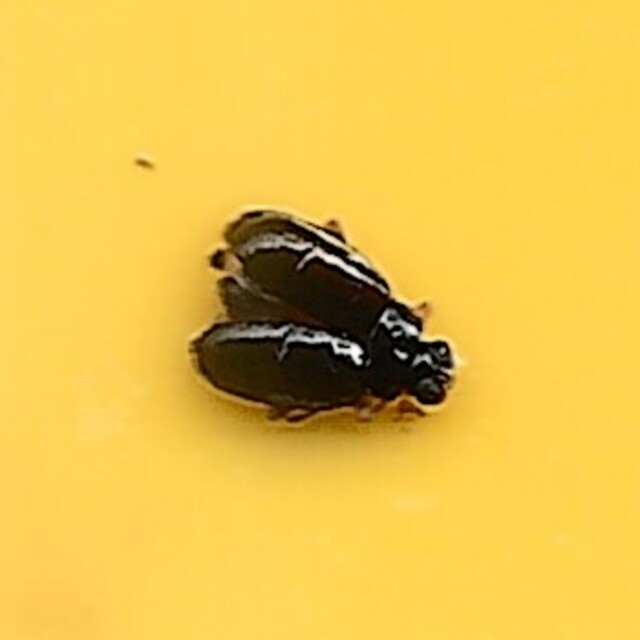Coleoptera: (183, 208, 457, 432)
